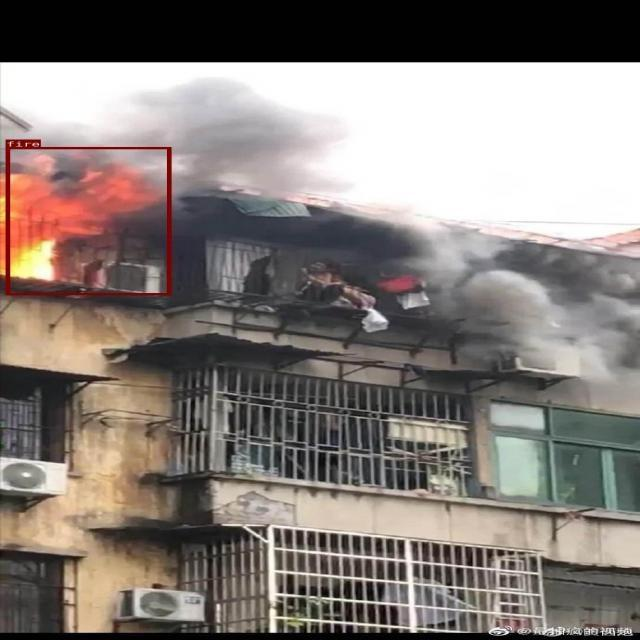fire: (5, 147, 170, 294)
